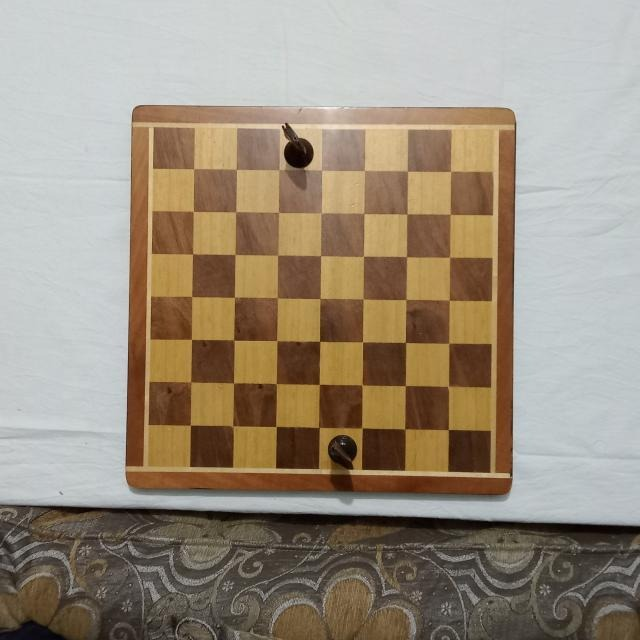black-knight: (278, 119, 315, 171), (324, 431, 359, 470)
